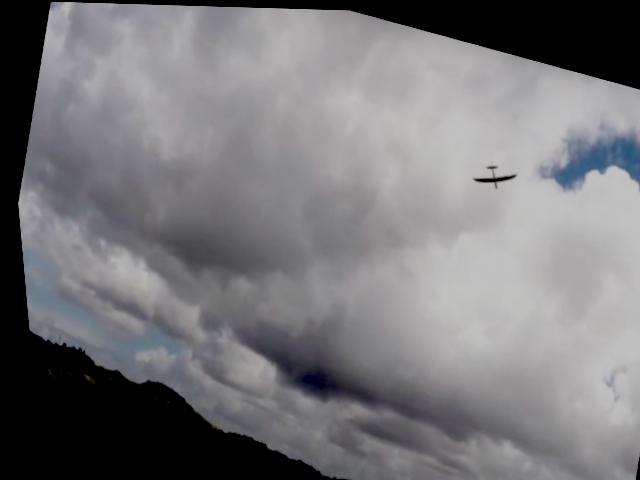iha: (461, 150, 519, 197)
